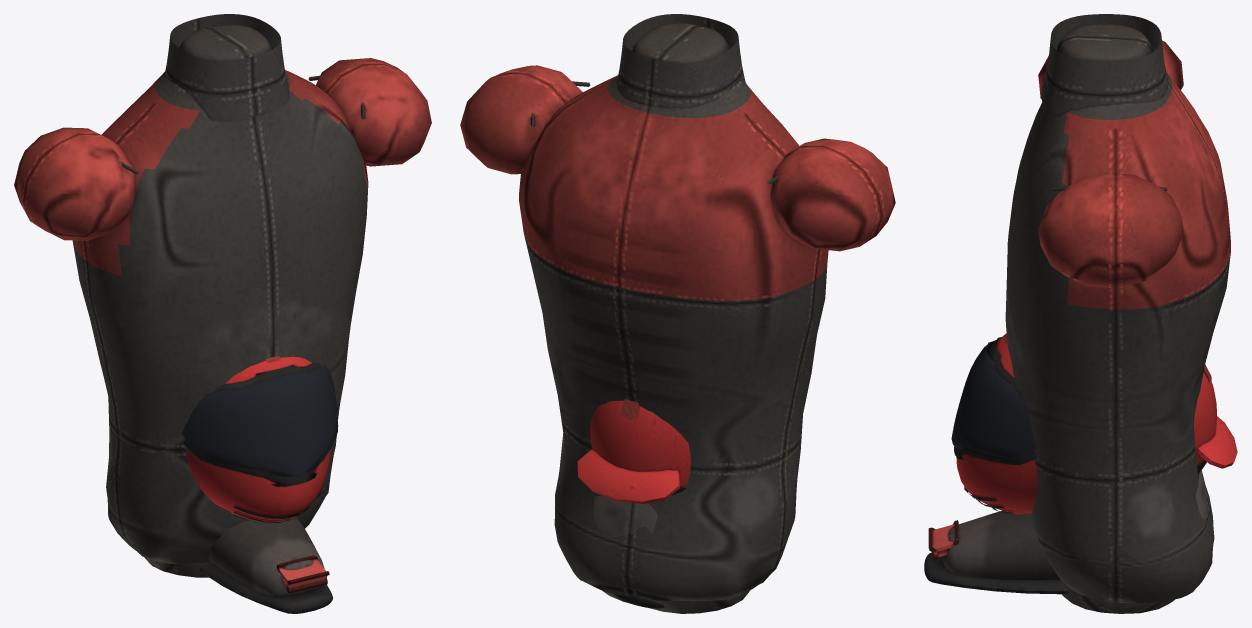
The model's file is rider-v1.glb.
3 views of the same model, side by side, from view 1: azimuth 30°, elevation 25°; view 2: azimuth 150°, elevation 25°; view 3: azimuth 270°, elevation 25° (orthographic). The views are drawn at different scales.
Visible parts, largest first — view 1: torso, head, boot_L, pelvis; view 2: torso, head, pelvis; view 3: torso, head, boot_L, pelvis.
Boxes of the visible parts, x1,y1,x2,y2 form: torso: (14, 14, 431, 564); head: (181, 356, 338, 523); boot_L: (199, 516, 332, 613); pelvis: (144, 557, 210, 577); torso: (460, 14, 895, 601); head: (577, 399, 690, 503); pelvis: (593, 495, 749, 613); torso: (1005, 14, 1230, 603); head: (951, 333, 1237, 514); boot_L: (924, 510, 1068, 594); pelvis: (1062, 470, 1207, 613).
Size of the model in its own units: 0.5969 by 0.7473 by 0.3903.
Materials: 9 (6 with a texture image).
